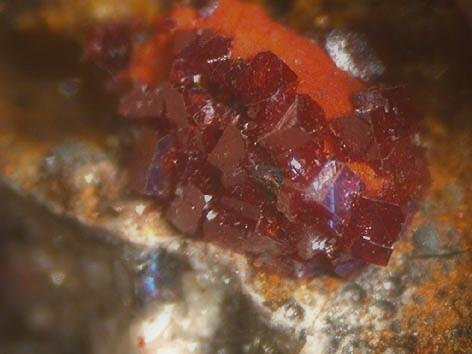cuprite: (118, 29, 430, 278)
